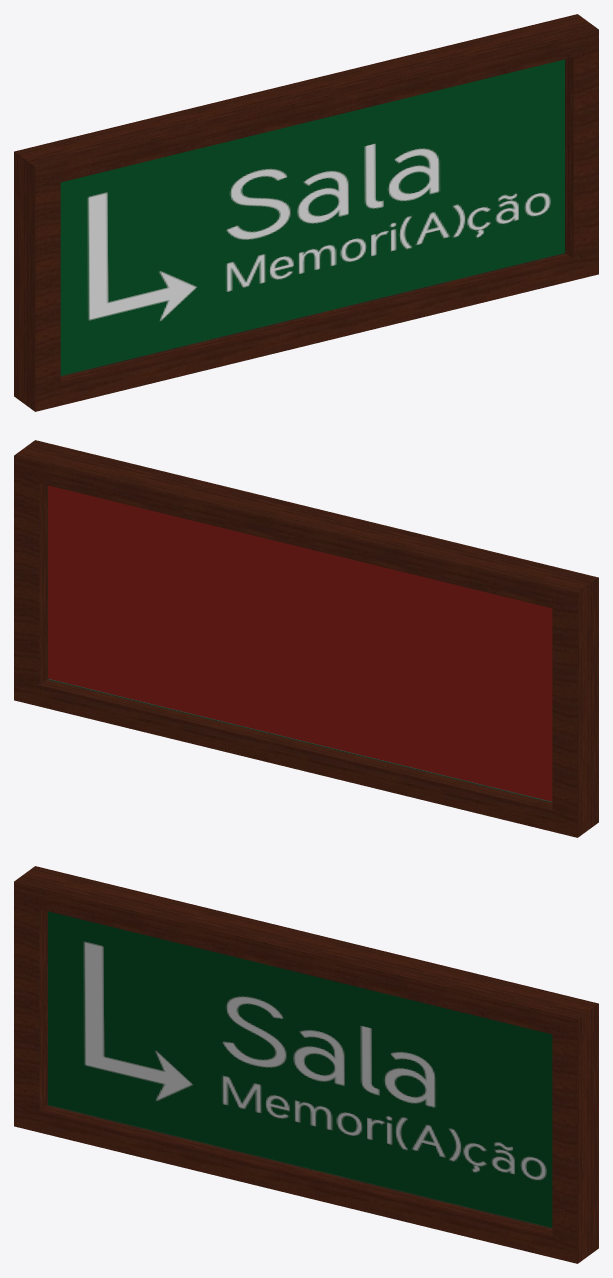
Rendered from low_poly_green_running_man_exit_memoriacao.glb.
3 renders of one model, top to bottom at view 1: azimuth 30°, elevation 25°; view 2: azimuth 150°, elevation 25°; view 3: azimuth 330°, elevation 25°, orthographic.
Visible parts, largest first — view 1: exit-sign_Baked_0; view 2: exit-sign_Baked_0; view 3: exit-sign_Baked_0.
Boxes of the visible parts, <box> form: exit-sign_Baked_0: <box>14,14,598,411</box>; exit-sign_Baked_0: <box>14,440,598,837</box>; exit-sign_Baked_0: <box>14,866,598,1263</box>.
Size of the model in its own units: 2.44 by 1.01 by 0.1593.
3 materials, 2 textured.
